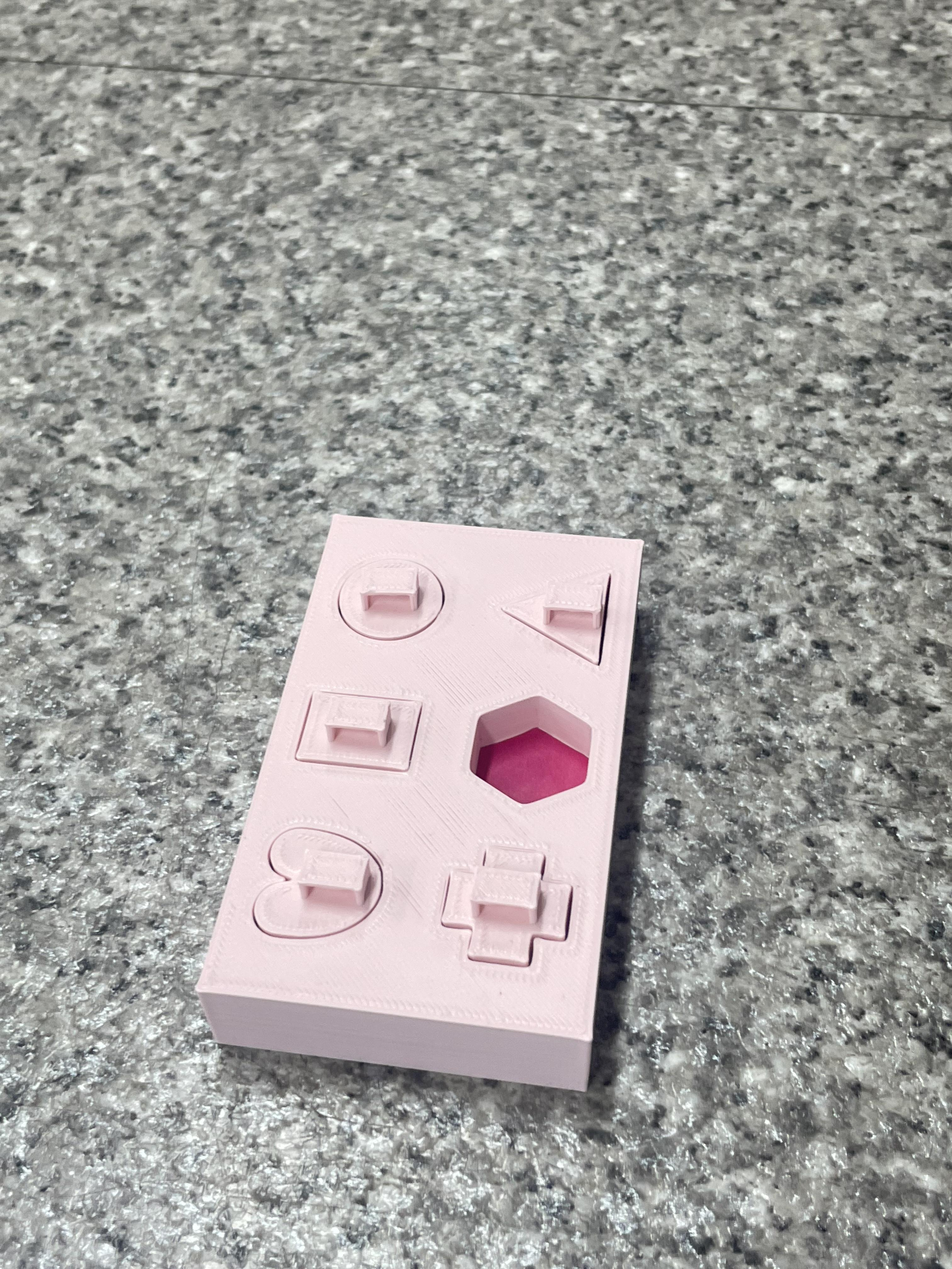unsolved: (179, 473, 682, 1119)
